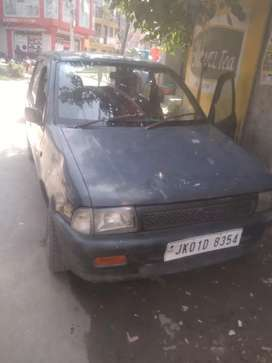JK01D8354: (163, 227, 243, 262)
